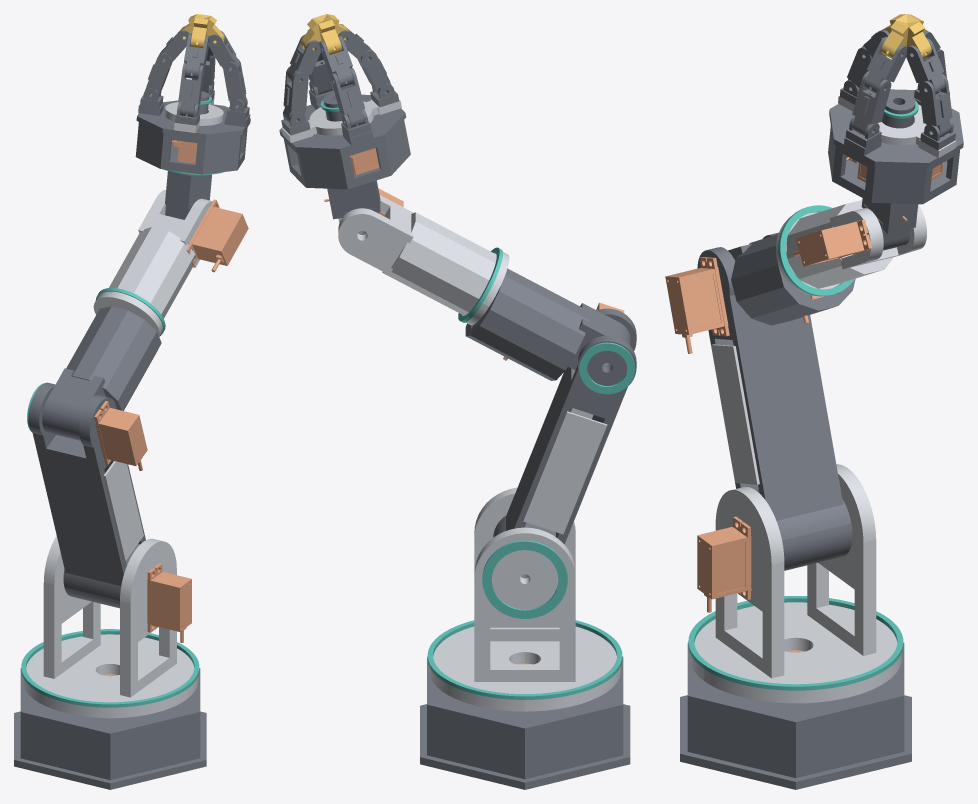
The model's file is iris-claw.glb.
The picture shows the model from 3 angles, left to right: view 1: azimuth 30°, elevation 25°; view 2: azimuth 150°, elevation 25°; view 3: azimuth 270°, elevation 25°; orthographic projection. The views are drawn at different scales.
Visible parts, largest first — view 1: iris-claw; view 2: iris-claw; view 3: iris-claw.
Part boxes in pixels (<box>): iris-claw: <box>14,14,250,789</box>; iris-claw: <box>279,14,636,789</box>; iris-claw: <box>665,14,963,789</box>.
Size of the model in its own units: 0.2549 by 0.5964 by 0.2026.
